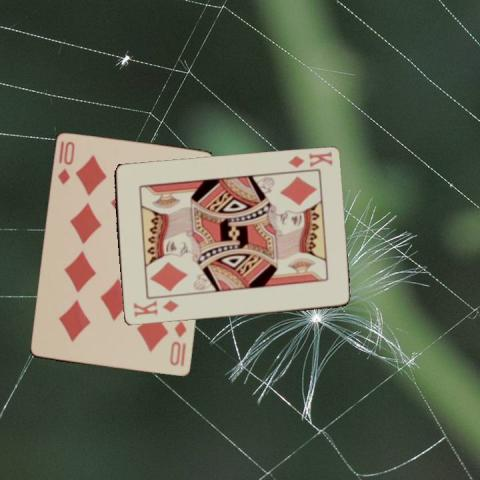10d: (167, 318, 188, 369), (54, 139, 76, 186)
Kd: (130, 297, 179, 319), (285, 150, 334, 169)
